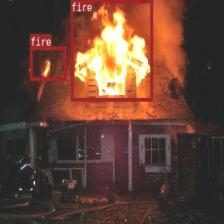fire: (70, 0, 152, 100), (29, 46, 66, 80)
